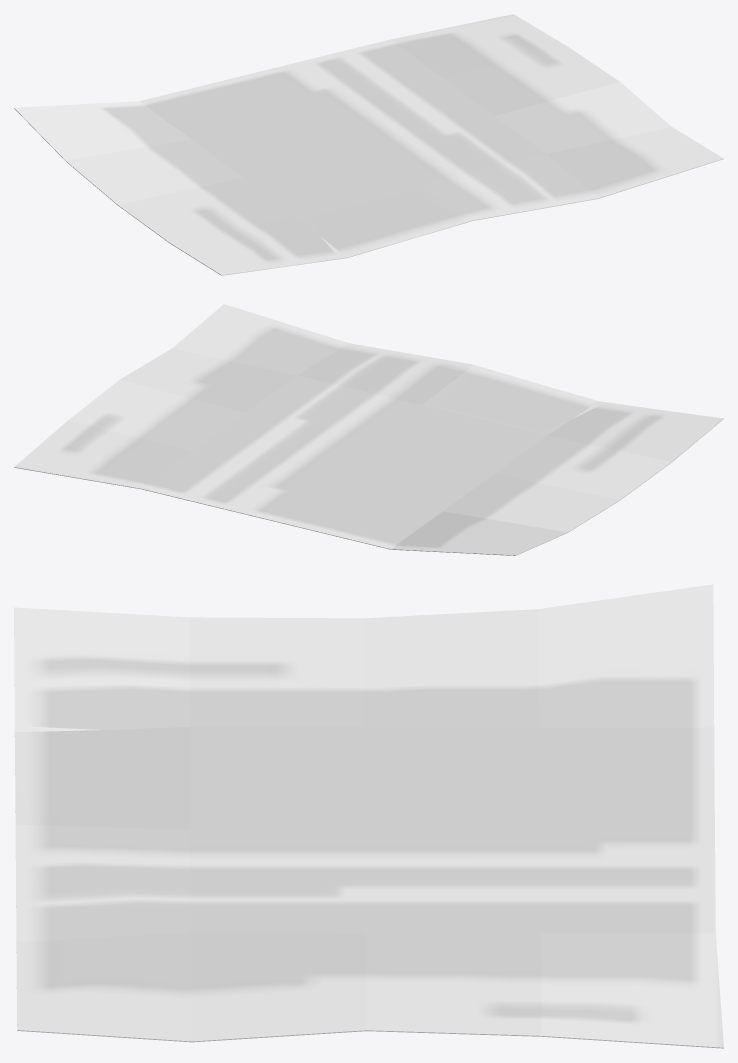
File: Paper07.fbx
The picture shows the model from 3 angles, top to bottom: view 1: azimuth 30°, elevation 25°; view 2: azimuth 150°, elevation 25°; view 3: azimuth 270°, elevation 25°; orthographic projection. The views are drawn at different scales.
Visible parts, largest first — view 1: Paper07; view 2: Paper07; view 3: Paper07.
Boxes of the visible parts, bbox=[...] form: Paper07: bbox=[14, 14, 723, 275]; Paper07: bbox=[14, 304, 723, 555]; Paper07: bbox=[14, 584, 723, 1048].
Size of the model in its own units: 0.3368 by 0.2453 by 0.0204.
